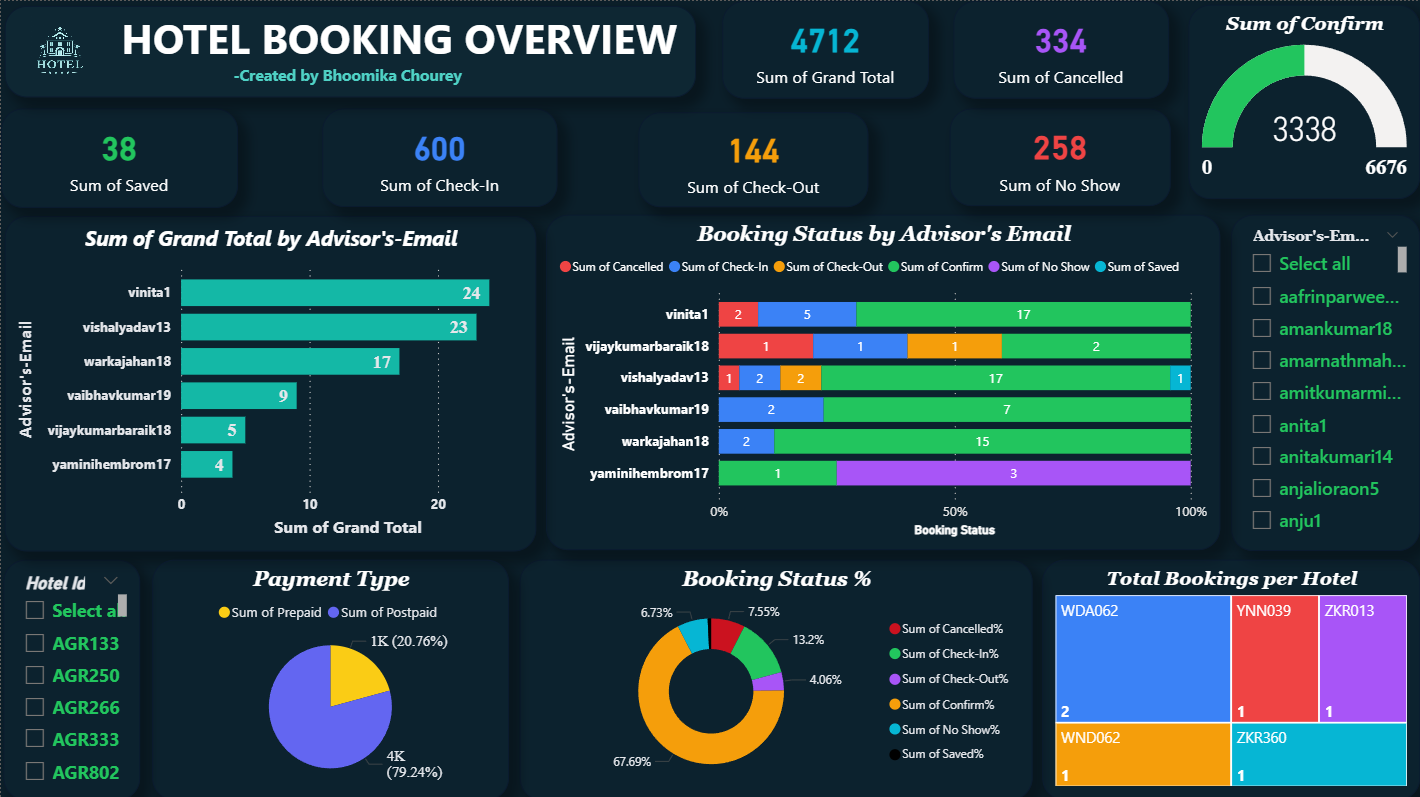

What the dashboard file says about the page in this screenshot:
{"tool":"powerbi","page":{"name":"Page 1","canvas":[1280,720],"ordinal":0},"visuals":[{"type":"donutChart","title":"Booking Status %","fields":{"Y":["Sum(all booking info.Cancelled Booking %)","Sum(all booking info.Checked In %)","Sum(all booking info.Checked Out %)","Sum(all booking info.Confirm Booking %)","Sum(all booking info.No Show%)","Sum(all booking info.Saved%)"]},"box":[467.8,503.8,462.1,216.4],"z":0},{"type":"slicer","fields":{"Values":["all booking info.Advisor's-Email"]},"box":[1109.6,192.8,170.4,303.5],"z":1000},{"type":"slicer","fields":{"Values":["Unique Hotel Id.Hotel Id"]},"box":[2.5,503.8,123.2,216.4],"z":2000},{"type":"barChart","fields":{"Category":["all booking info.Advisor's-Email"],"Y":["Sum(all booking info.Grand Total)"]},"box":[3.4,193.9,479,302.1],"z":3000},{"type":"hundredPercentStackedBarChart","title":"Booking Status by Advisor''s Email","fields":{"Category":["all booking info.Advisor's-Email"],"Y":["Sum(all booking info.Cancelled Booking)","Sum(all booking info.Checked In)","Sum(all booking info.Checked Out)","Sum(all booking info.Confirm Booking)","Sum(all booking info.No Show)","Sum(all booking info.Saved)"]},"box":[491.4,192.8,608.3,302.3],"z":4000},{"type":"gauge","fields":{"Y":["Sum(all booking info.Confirm Booking)"]},"box":[1071,3.7,209,175.4],"z":5000},{"type":"pieChart","title":"Payment Type","fields":{"Y":["Sum(all booking info.Prepay Yes)","Sum(all booking info.Prepay No)"]},"box":[136.4,503.8,321.2,216.4],"z":6000},{"type":"treemap","title":"Total Bookings per Hotel","fields":{"Group":["Unique Hotel Id.Hotel Id"],"Values":["Sum(Unique Hotel Id.Count of Hotel_id)"]},"box":[939.2,503.8,340.8,216.4],"z":7000},{"type":"card","fields":{"Values":["Sum(all booking info.Saved)"]},"box":[0,96.7,213.5,89.5],"z":8000},{"type":"card","fields":{"Values":["Sum(all booking info.No Show)"]},"box":[855.8,97,199,88.3],"z":9000},{"type":"card","fields":{"Values":["Sum(all booking info.Checked In)"]},"box":[289.7,96.9,211.9,89],"z":10000},{"type":"card","fields":{"Values":["Sum(all booking info.Cancelled Booking)"]},"box":[858.3,0,194.1,88.3],"z":11000},{"type":"card","fields":{"Values":["Sum(all booking info.Grand Total)"]},"box":[650.7,0,186.1,88],"z":12000},{"type":"card","fields":{"Values":["Sum(all booking info.Checked Out)"]},"box":[574.8,100.3,207.4,85.7],"z":13000},{"type":"textbox","box":[2.9,4.3,623.3,82.2],"z":14000},{"type":"image","box":[0,0,106.2,96.2],"z":15000}]}

Visuals, with their boxes in screenshot pixels (x1, y1, x2, y2), scaled from the page's 1280x720 canvas onto the 1420x797 screenshot:
"Booking Status %" donutChart: 519/558/1032/796
slicer - all booking info.Advisor's-Email: 1231/213/1419/549
slicer - Unique Hotel Id.Hotel Id: 3/558/139/796
barChart - all booking info.Advisor's-Email x Sum(all booking info.Grand Total): 4/215/535/549
"Booking Status by Advisor''s Email" hundredPercentStackedBarChart: 545/213/1220/548
gauge - Sum(all booking info.Confirm Booking): 1188/4/1419/198
"Payment Type" pieChart: 151/558/508/796
"Total Bookings per Hotel" treemap: 1042/558/1419/796
card - Sum(all booking info.Saved): 0/107/237/206
card - Sum(all booking info.No Show): 949/107/1170/205
card - Sum(all booking info.Checked In): 321/107/556/206
card - Sum(all booking info.Cancelled Booking): 952/0/1168/98
card - Sum(all booking info.Grand Total): 722/0/928/97
card - Sum(all booking info.Checked Out): 638/111/868/206
textbox: 3/5/695/96
image: 0/0/118/106
